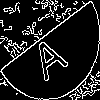A: (25, 25, 70, 83)
